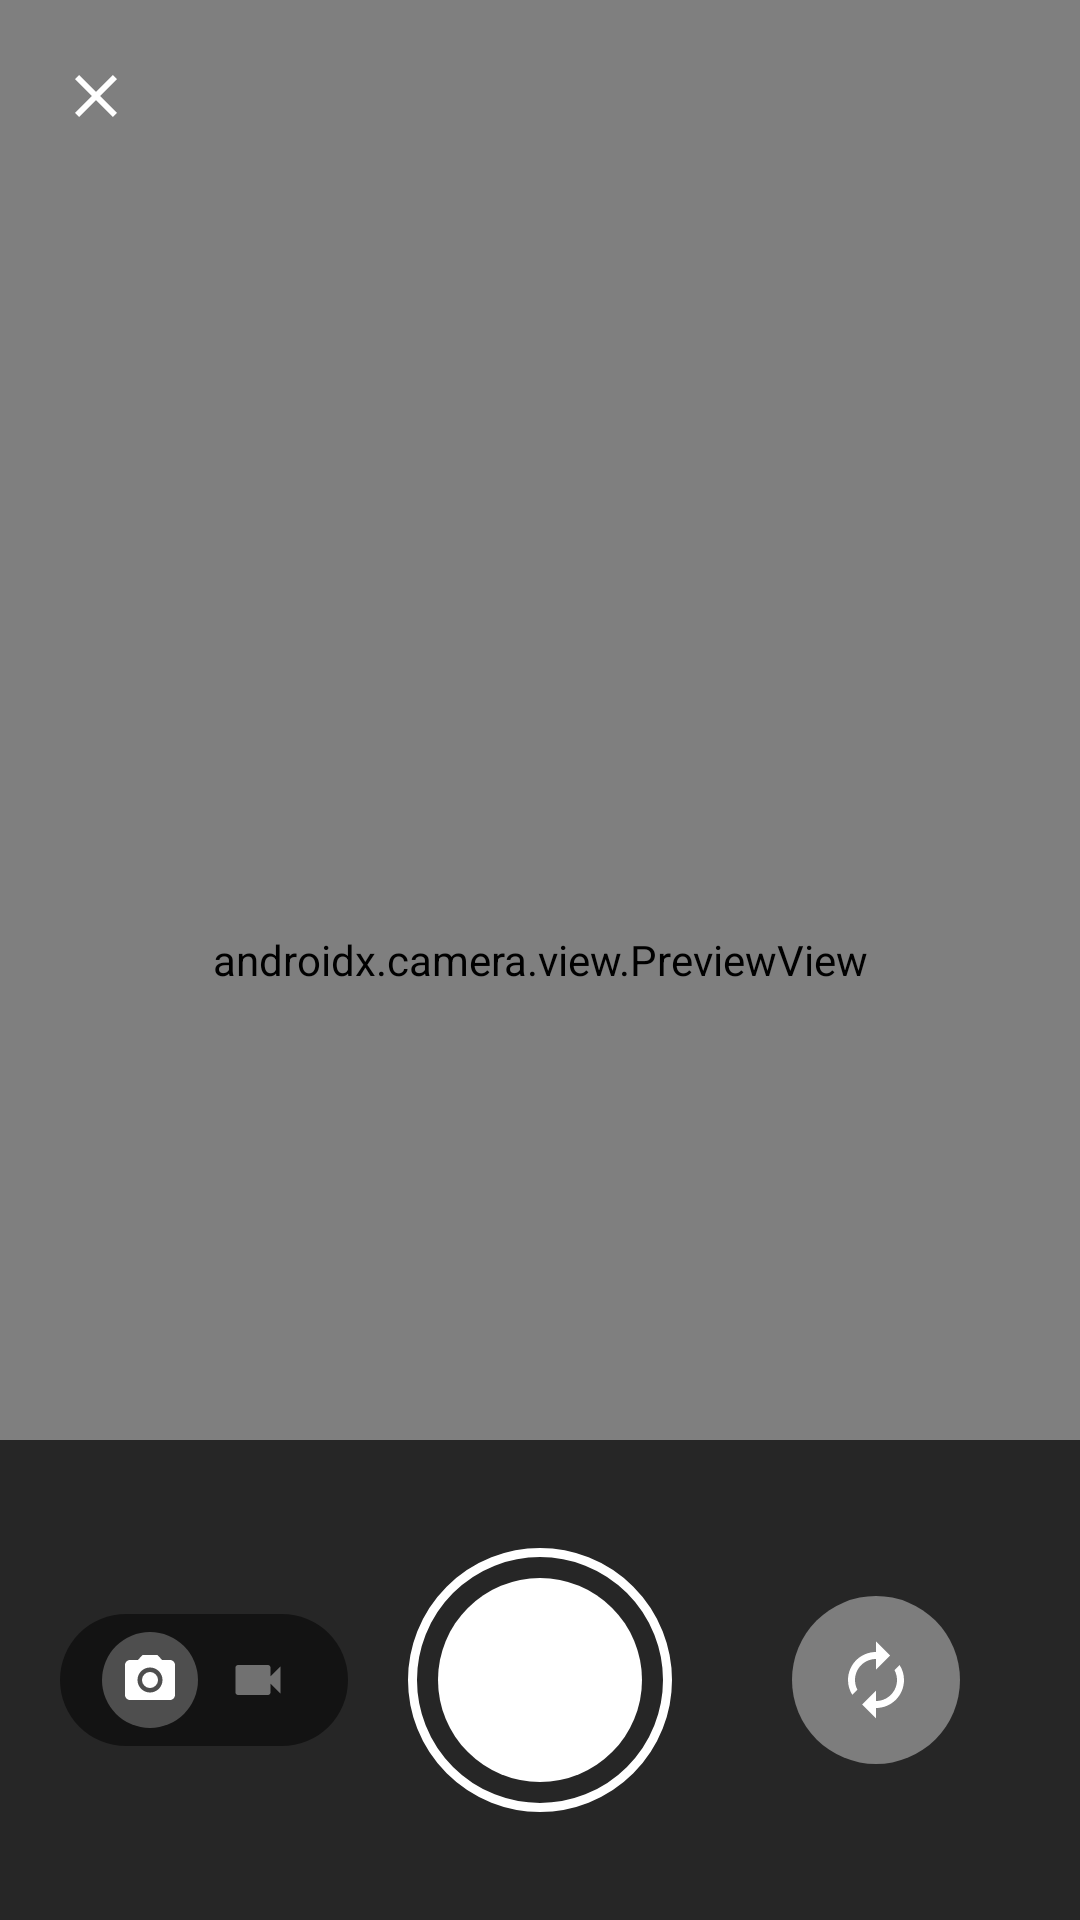

Named icons in this screenshot (1080 × 1920) and their centers, (x,y):
Close: (96,96)
Flip camera: (876,1680)
video camera: (258,1680)
